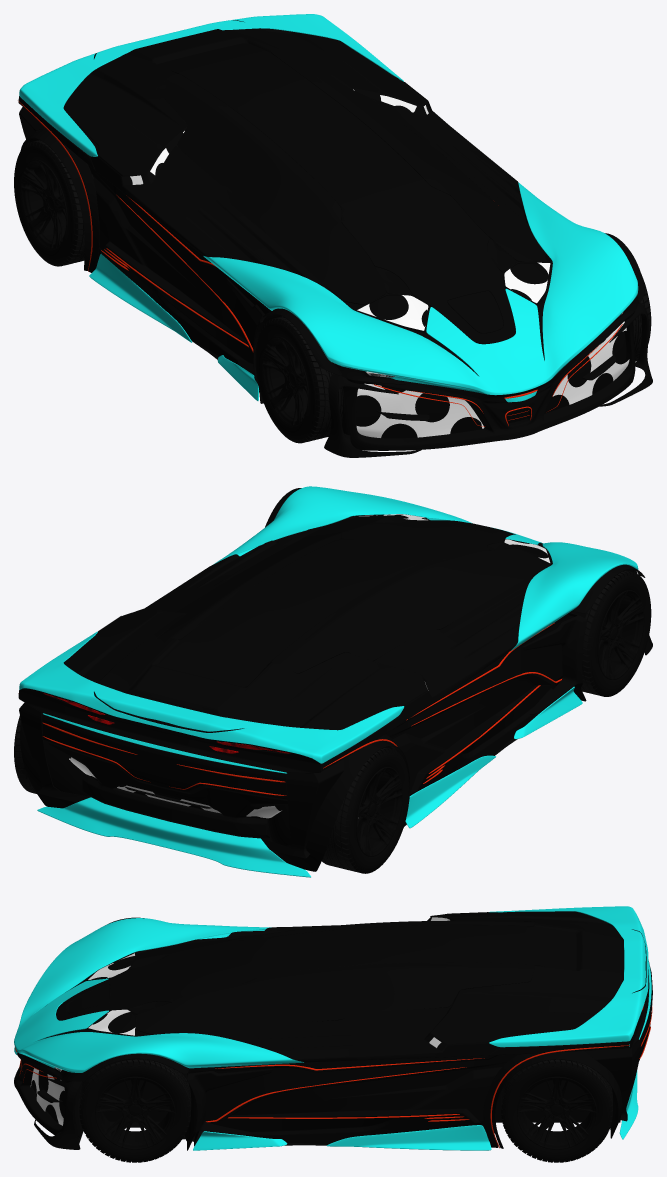
Rendered from astra_r50.glb.
3 views of the same model, one above another, from view 1: azimuth 30°, elevation 25°; view 2: azimuth 150°, elevation 25°; view 3: azimuth 270°, elevation 25° (orthographic). The views are drawn at different scales.
Visible parts, largest first — view 1: Cube.003, Cube.006, Cube.002, Cube.042, Cube, Cube.040, Cube.026, Cube.011, Cube.047, Cube.023, tire_001_R17.003, tire_001_R17.004 (+13 smaller); view 2: Cube.003, Cube.042, Cube.002, Cube.018, Cube.040, Cube, Cube.011, Cube.006, Cube.010, Cube.039, Cube.009, Cube.041 (+14 smaller); view 3: Cube.040, Cube.003, Cube.002, Cube.006, Cube.042, Cube, Cube.011, tire_001_R17.001, tire_001_R17.002, rim_235.002, rim_235.001, Cube.047 (+19 smaller).
Boxes of the visible parts, x1,y1,x2,y2 form: Cube.003: [158, 43, 515, 343]; Cube.006: [203, 182, 638, 402]; Cube.002: [157, 49, 543, 304]; Cube.042: [63, 28, 427, 176]; Cube: [90, 82, 531, 311]; Cube.040: [88, 134, 530, 370]; Cube.026: [342, 311, 635, 450]; Cube.011: [19, 14, 403, 156]; Cube.047: [73, 28, 626, 438]; Cube.023: [356, 321, 629, 437]; tire_001_R17.003: [255, 316, 342, 443]; tire_001_R17.004: [14, 140, 93, 266]; Cube.003: [157, 520, 515, 686]; Cube.042: [63, 607, 427, 730]; Cube.002: [157, 516, 543, 673]; Cube.018: [42, 714, 287, 838]; Cube.040: [156, 540, 568, 795]; Cube: [96, 525, 571, 719]; Cube.011: [19, 631, 404, 773]; Cube.006: [213, 486, 638, 650]; Cube.010: [37, 797, 310, 877]; Cube.039: [20, 714, 410, 871]; Cube.009: [18, 688, 322, 773]; Cube.041: [19, 702, 344, 858]; Cube.040: [188, 1053, 541, 1144]; Cube.003: [56, 925, 576, 1020]; Cube.002: [136, 920, 534, 1034]; Cube.006: [14, 918, 303, 1072]; Cube.042: [430, 911, 624, 1044]; Cube: [178, 912, 497, 1068]; Cube.011: [489, 906, 651, 1047]; tire_001_R17.001: [79, 1059, 191, 1162]; tire_001_R17.002: [501, 1059, 612, 1162]; rim_235.002: [517, 1076, 597, 1149]; rim_235.001: [95, 1076, 175, 1149]; Cube.047: [31, 911, 629, 1147].
Size of what is drawn, in the model's own units: 2.33 by 1.13 by 4.37.
13 materials, 3 textured.
